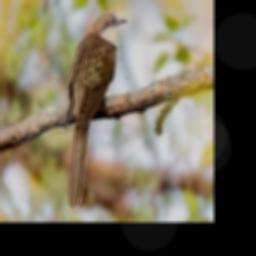Cuckoo: (67, 12, 128, 209)
